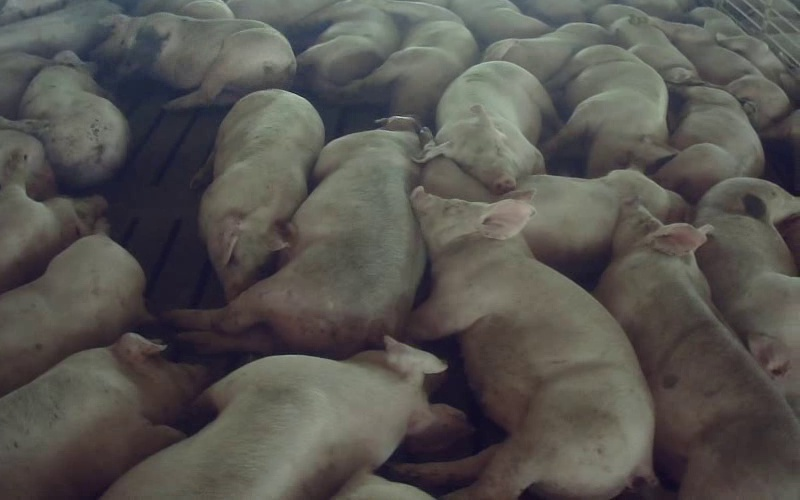pig: (398, 188, 653, 499), (167, 117, 425, 357), (595, 202, 799, 499), (104, 337, 466, 499), (0, 333, 207, 499), (0, 218, 148, 395), (694, 179, 799, 418), (92, 12, 295, 109), (420, 61, 556, 193), (544, 44, 676, 177), (341, 0, 477, 123), (18, 51, 129, 189), (653, 86, 763, 202), (298, 0, 400, 92), (593, 4, 701, 84), (483, 23, 608, 82)
